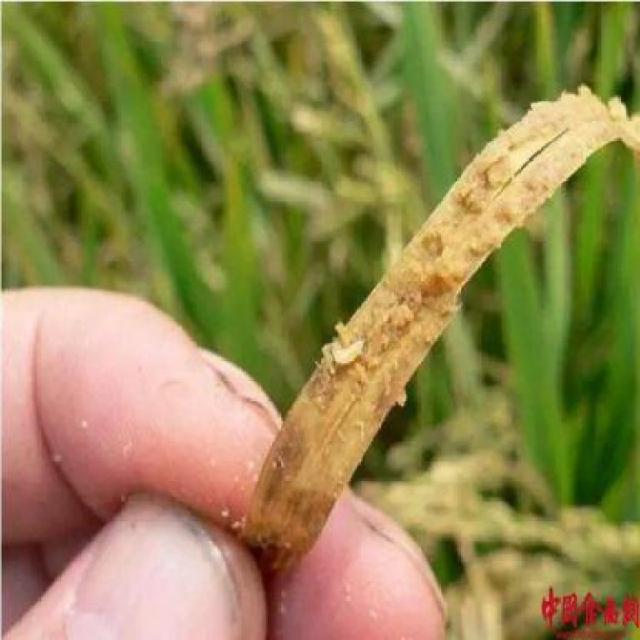whorl-maggot: (329, 338, 371, 365)
